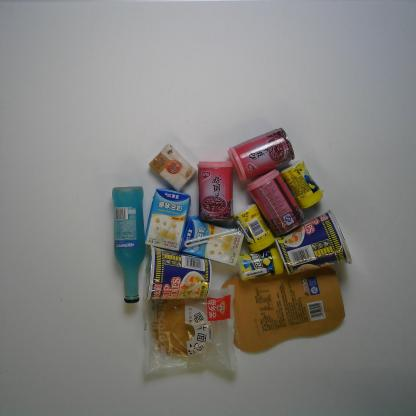Alcohol: (108, 182, 148, 309)
Canned Food: (246, 167, 307, 238), (225, 125, 297, 183), (195, 159, 236, 224)
Dessert: (138, 282, 244, 381)
Dried Fruit: (219, 263, 347, 355)
Gum: (278, 158, 326, 211), (232, 202, 277, 255), (235, 245, 286, 283)
Instant Noodles: (273, 208, 355, 276), (140, 244, 214, 304)
Milk: (176, 214, 247, 269), (143, 186, 193, 254)
Tissue: (146, 142, 198, 194)
